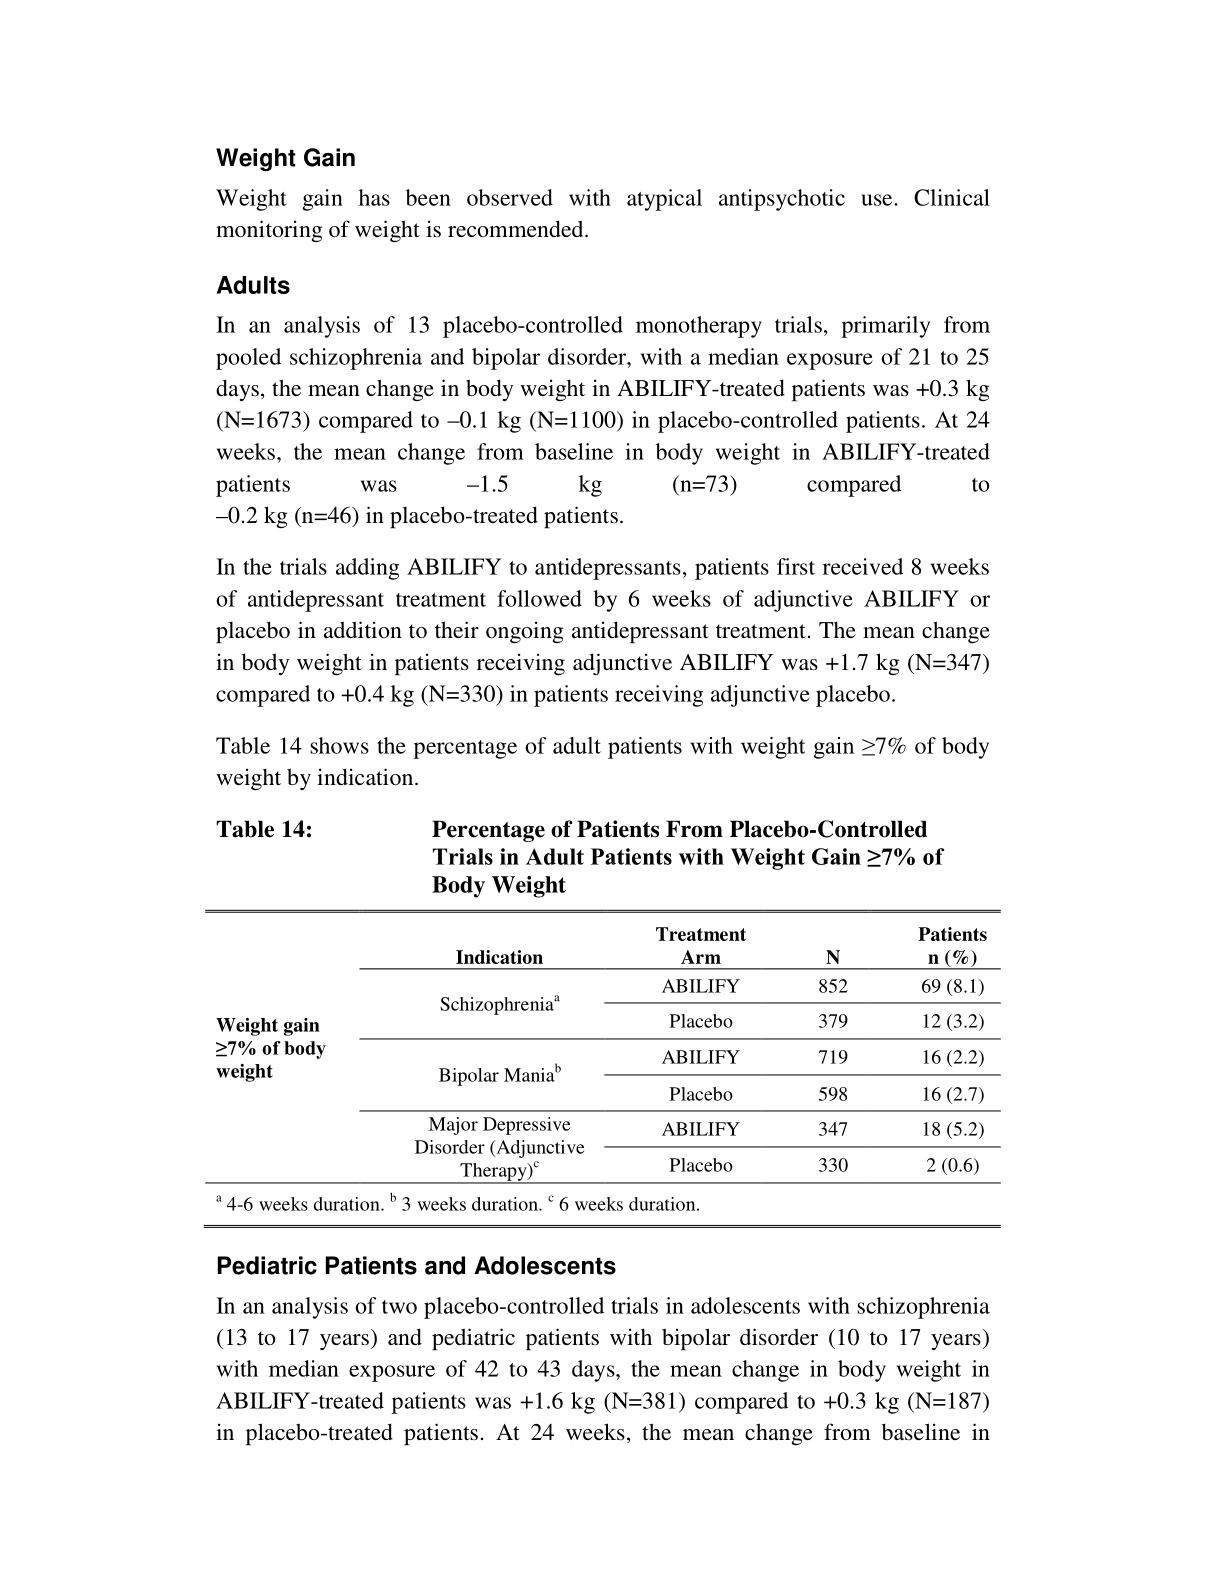partial_lined_merged_cells: (204, 908, 1002, 1229)
